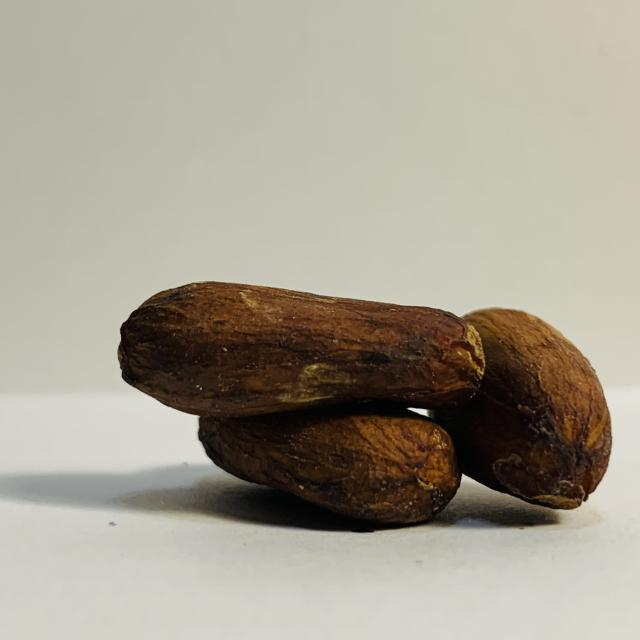Agglomerated_cocoabeans: (25, 274, 626, 550)
